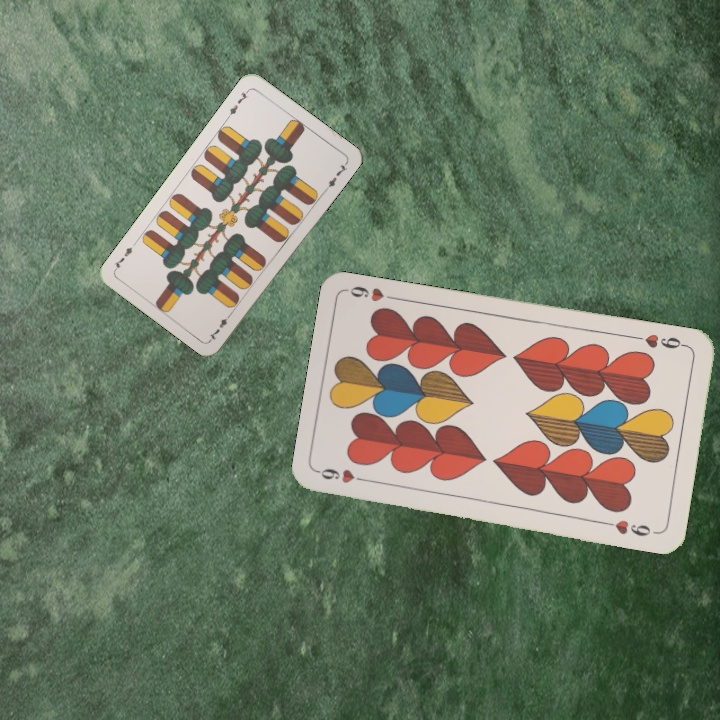E7: (205, 308, 235, 343), (223, 85, 252, 121)
H9: (631, 330, 690, 352), (315, 464, 374, 486)
